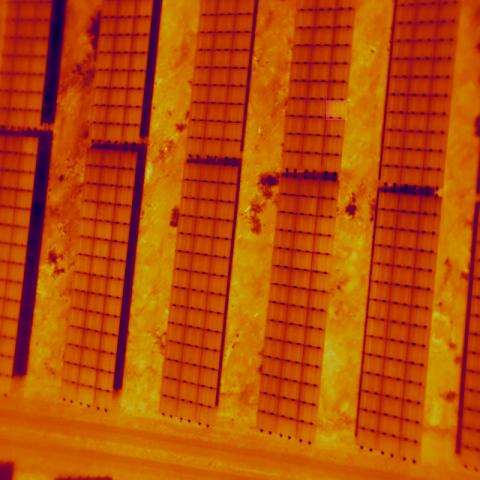fault: (326, 100, 347, 120)
